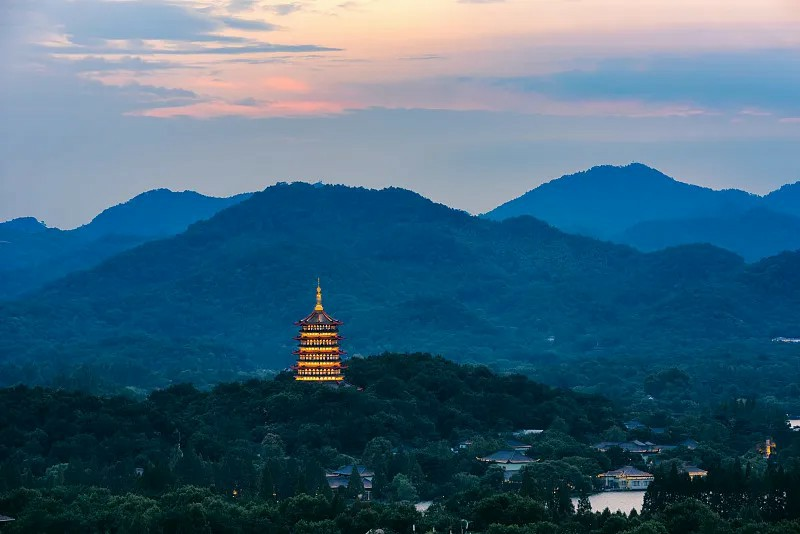Leifeng: (289, 277, 348, 387)
